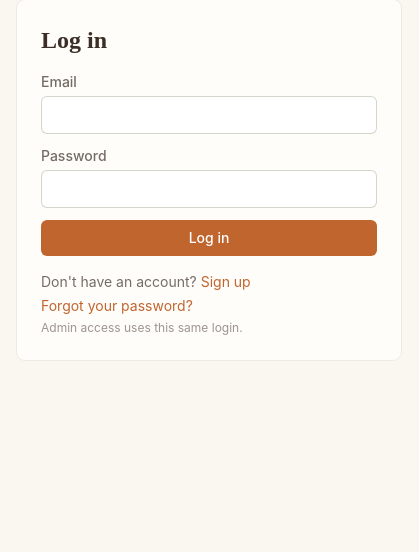
Test case: LoginForm › shows a distinct message and a resend option when the account isn't verified yet
In the field labelled "Email": (209,115) [41,96,377,134], type "unverified-user@example.com"
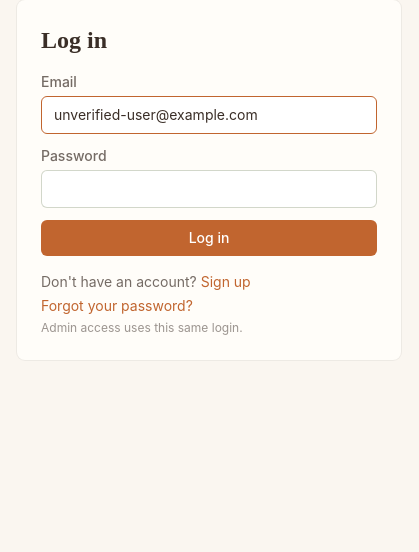
In the password field labelled "Password": (209,189) [41,170,377,208], type "secret"
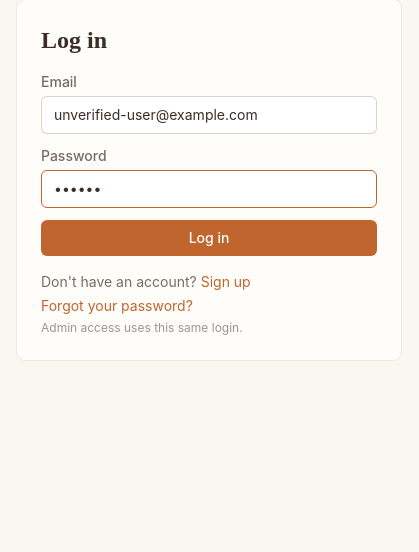
Click the button "Log in": (209,238) [41,220,377,256]
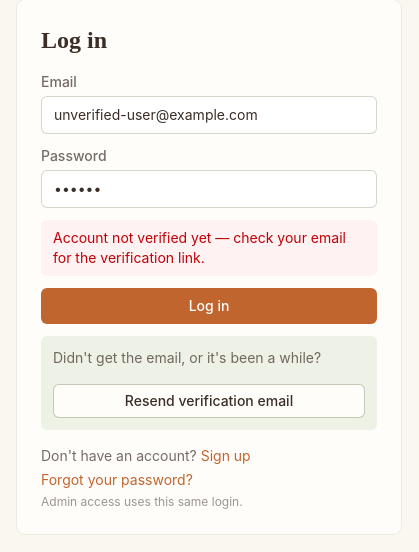
Now the message reads "Account not verified yet — check your email for the verification link.", box [53,229,346,266]
Now the text "Didn't get the email, or it's been a while?" is shown, box [53,348,365,368]
